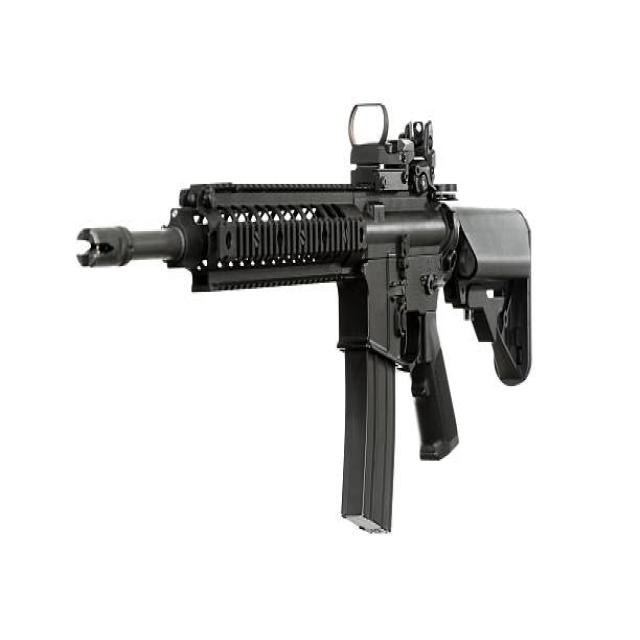rifle: (73, 91, 543, 549)
